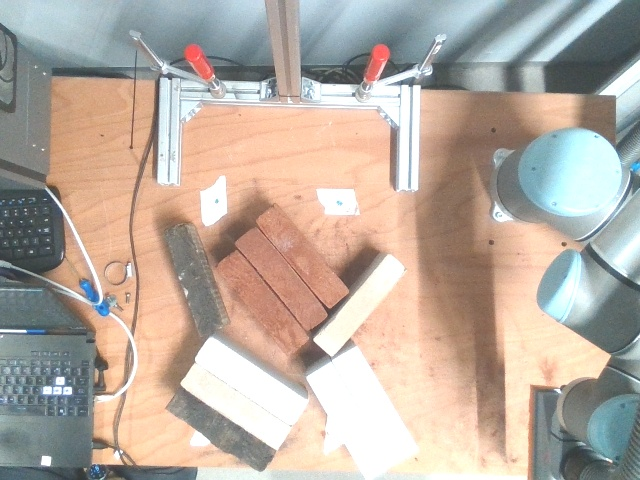brick-side: (255, 205, 348, 309), (194, 338, 305, 425), (335, 348, 417, 464), (179, 364, 289, 449), (307, 365, 389, 479), (236, 229, 327, 330), (218, 251, 307, 353), (316, 258, 404, 356), (167, 389, 273, 470), (162, 222, 216, 333)
